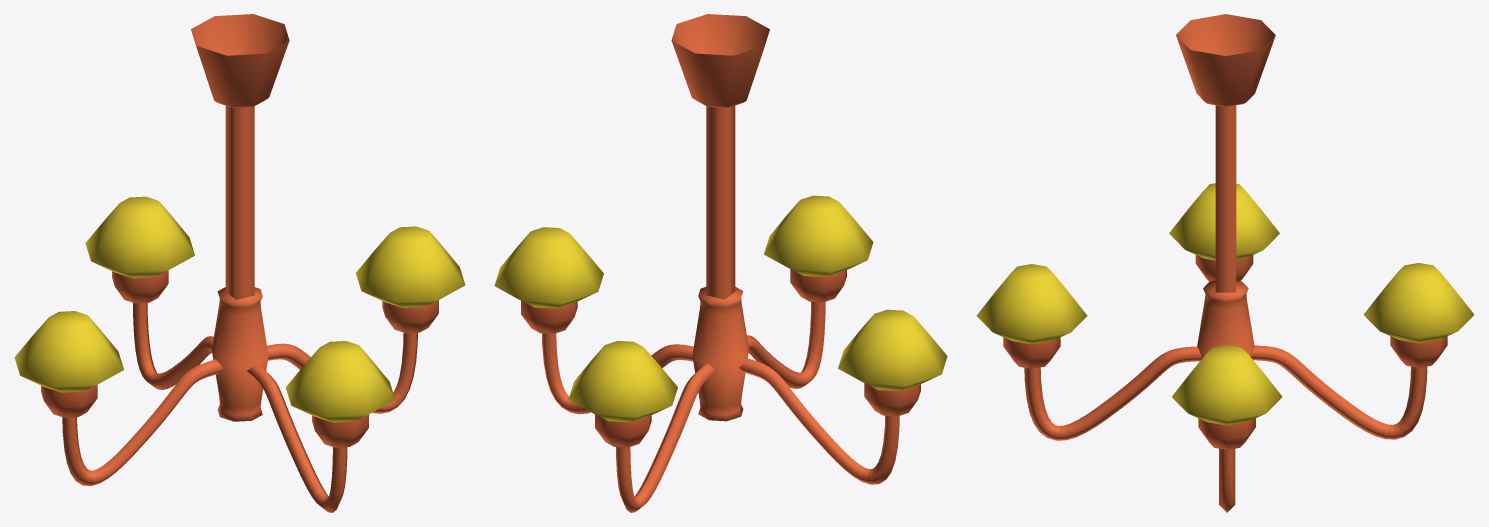
Rendered from Lamp.fbx.
3 views of the same model, side by side, from view 1: azimuth 30°, elevation 25°; view 2: azimuth 150°, elevation 25°; view 3: azimuth 270°, elevation 25° (orthographic). The views are drawn at different scales.
Visible parts, largest first — view 1: BézierCurve.003; view 2: BézierCurve.003; view 3: BézierCurve.003.
Boxes of the visible parts, x1=… form: BézierCurve.003: x1=14, y1=14, x2=465, y2=512; BézierCurve.003: x1=494, y1=14, x2=947, y2=512; BézierCurve.003: x1=976, y1=14, x2=1474, y2=512.
Size of the model in its own units: 93.67 by 84.09 by 93.71.
